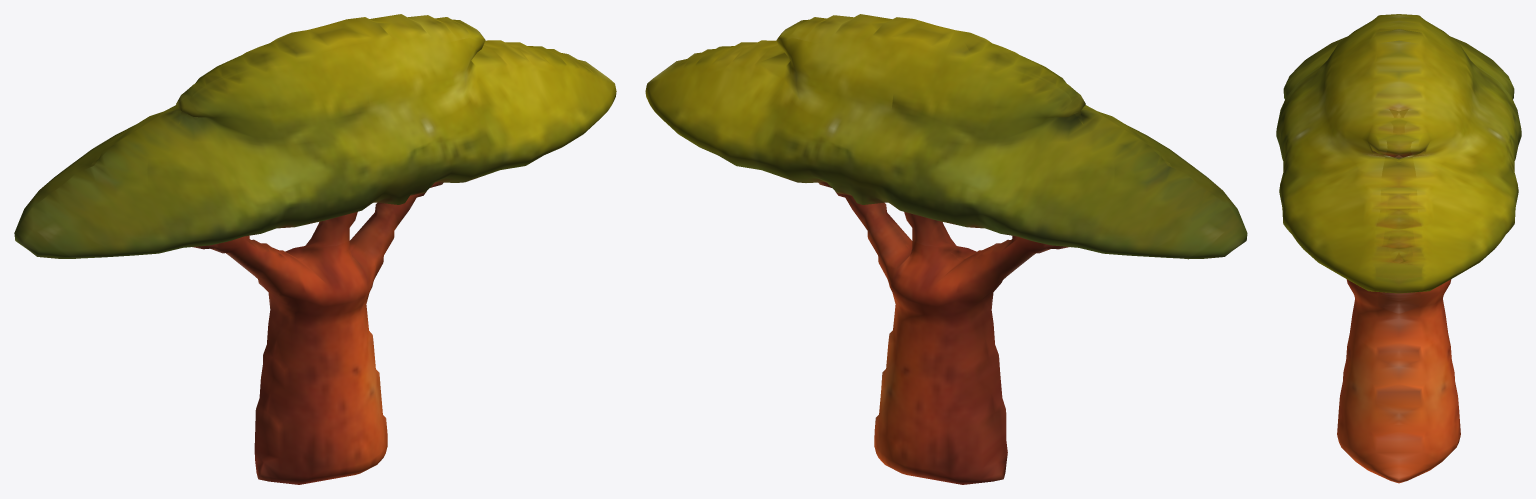
File: 03_baobab_trees_r02_c02.glb
3 renders of one model, left to right at view 1: azimuth 30°, elevation 25°; view 2: azimuth 150°, elevation 25°; view 3: azimuth 270°, elevation 25°, orthographic. The views are drawn at different scales.
Visible parts, largest first — view 1: 03_baobab_trees_r02_c02; view 2: 03_baobab_trees_r02_c02; view 3: 03_baobab_trees_r02_c02.
Part boxes in pixels (<box>): 03_baobab_trees_r02_c02: <box>14,14,616,484</box>; 03_baobab_trees_r02_c02: <box>645,14,1247,484</box>; 03_baobab_trees_r02_c02: <box>1276,14,1521,483</box>.
Bounding box in the file's own units: 1.84 × 1.3 × 0.6993.
1 material, 1 textured.
